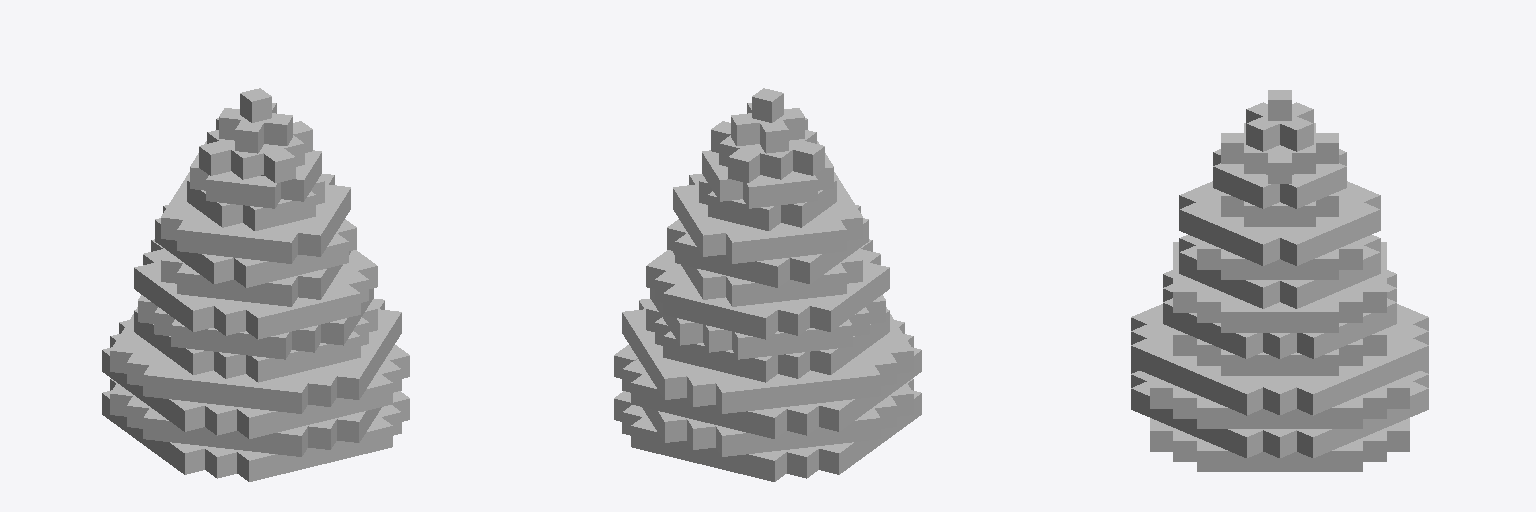
File: christmas_tree.obj
3 views of the same model, side by side, from view 1: azimuth 30°, elevation 25°; view 2: azimuth 150°, elevation 25°; view 3: azimuth 270°, elevation 25° (orthographic).
Parts seen in each view (by area): view 1: model.021; view 2: model.021; view 3: model.021.
Part boxes in pixels (bbox=[...]): model.021: bbox=[102, 88, 409, 481]; model.021: bbox=[614, 88, 921, 481]; model.021: bbox=[1131, 90, 1428, 471].
Size of the model in its own units: 2.33 by 2.77 by 2.33.